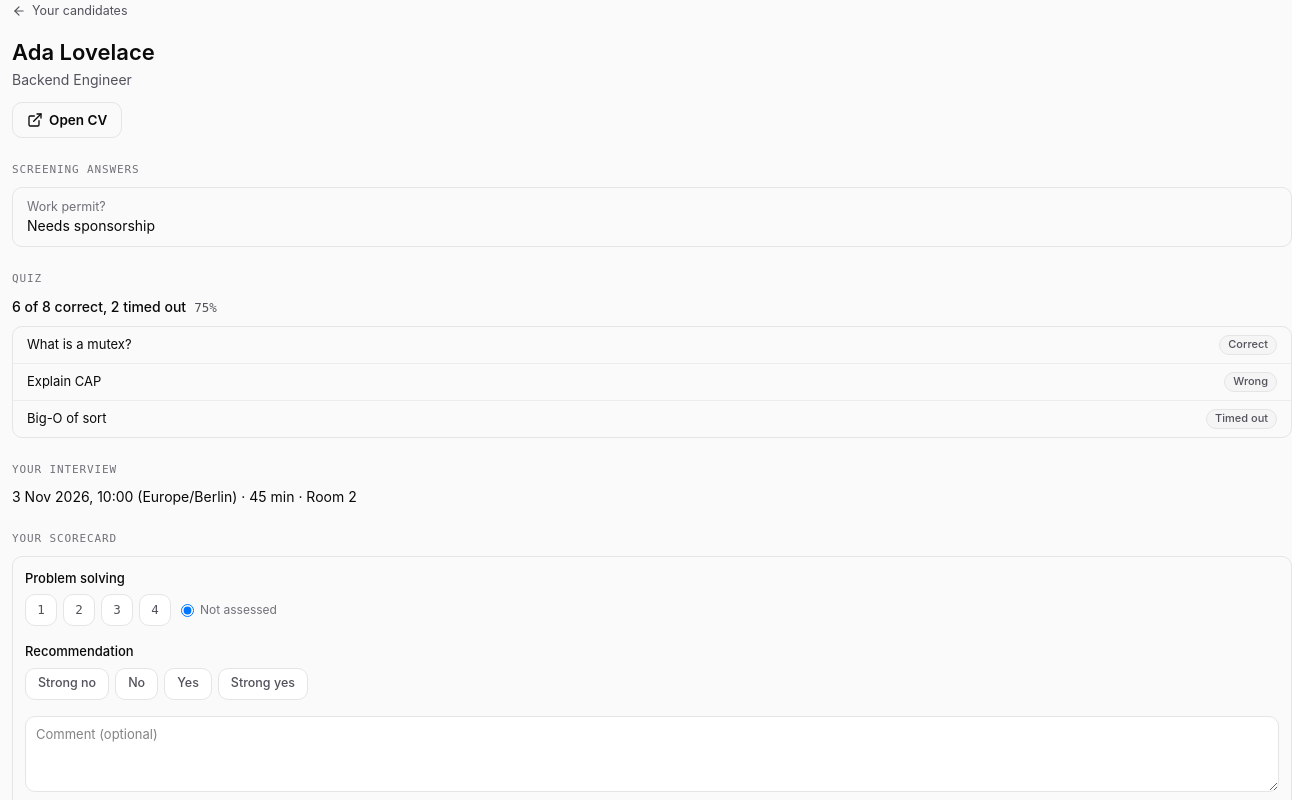
Scenario: ReviewDetailPage › submits, then reloads from the server and shows colleagues' cards
Expected: the heading "Ada Lovelace" is shown, [12,39,155,65]
Click the radio button named "3 of 4". click: {"x": 117, "y": 610}
box: [101,594,133,626]
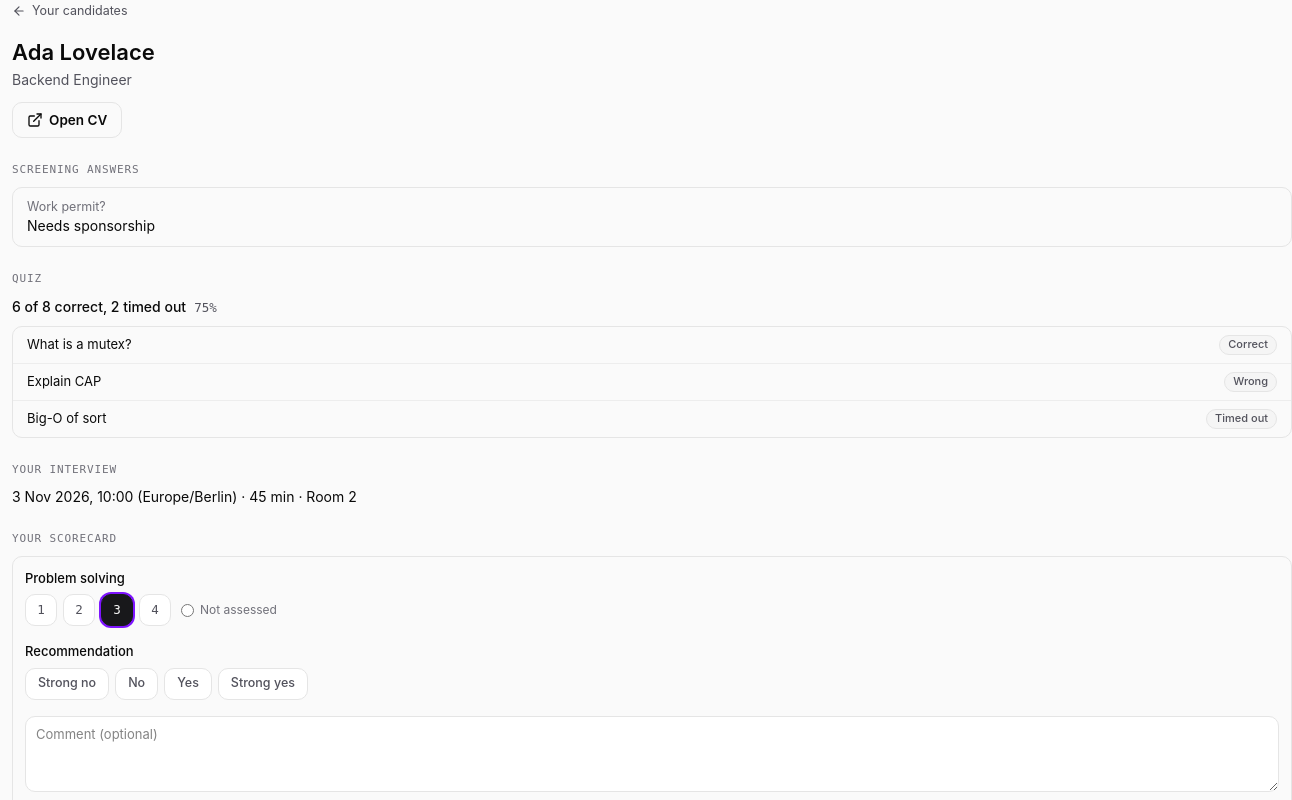
Click the button "Yes". click: {"x": 188, "y": 684}
box: [164,668,212,700]
(page scrolled)
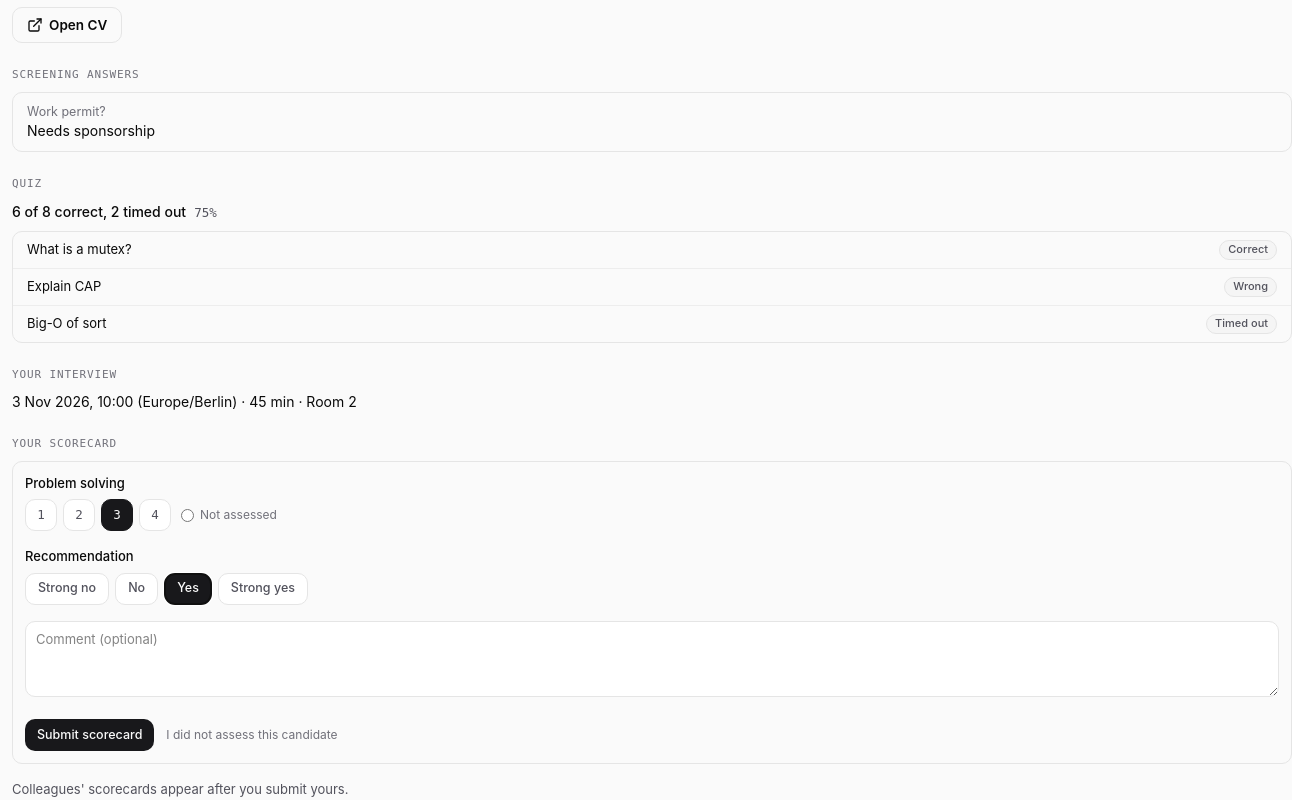
Click the button "Submit scorecard". click: {"x": 90, "y": 735}
box: [25,719,154,751]
(page scrolled)
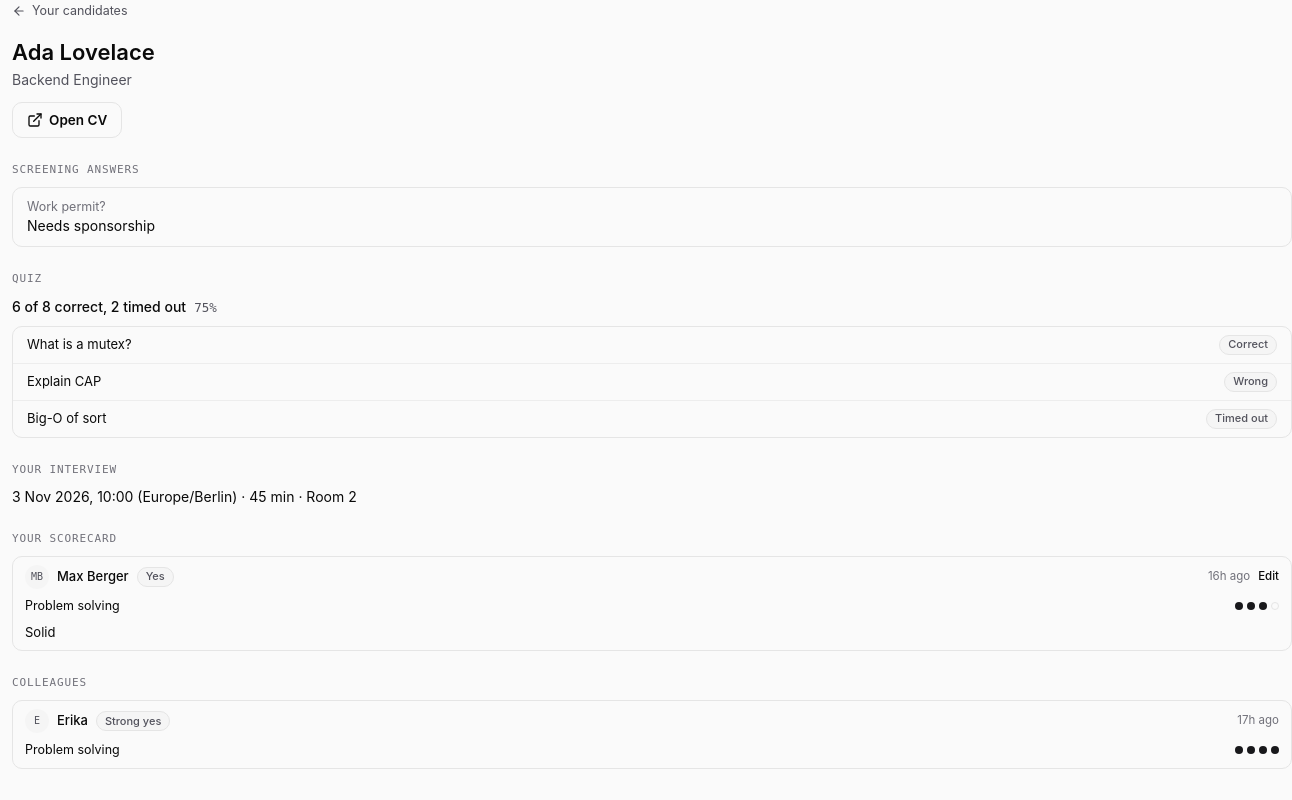
Expected: the button "Edit" is shown, [1258,568,1279,585]
Expected: the text "Erika" is shown, [57,711,88,730]
Expected: the picture named "4 of 4" is shown, [1235,746,1279,754]
